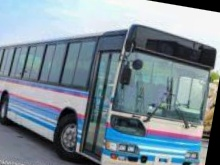bus: (0, 4, 218, 165)
